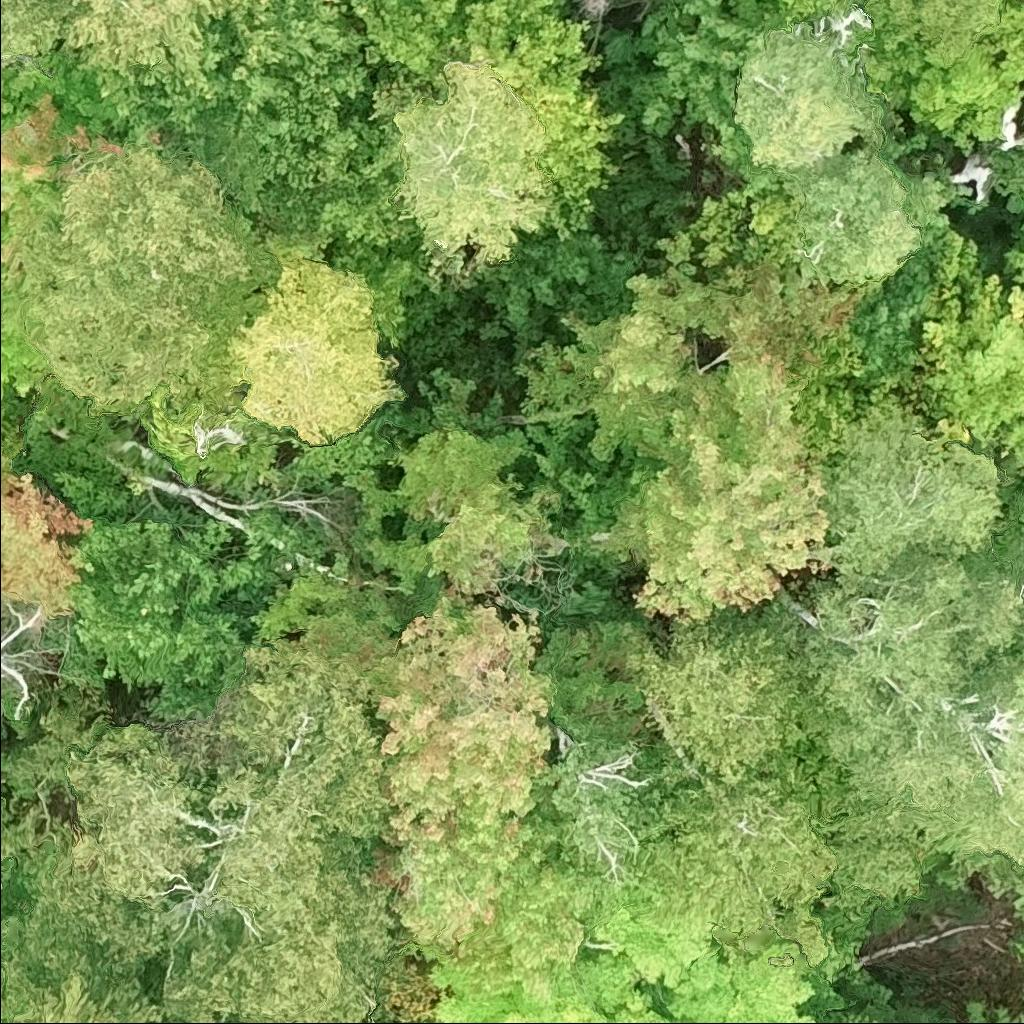crown: (0, 632, 395, 1023), (17, 138, 276, 421), (305, 581, 554, 848), (602, 345, 831, 622), (797, 542, 1023, 761), (433, 901, 827, 1023), (0, 65, 127, 418), (0, 0, 283, 156), (369, 802, 595, 991), (635, 767, 841, 974), (846, 646, 1023, 866), (515, 272, 702, 473), (627, 601, 827, 785), (392, 61, 556, 285), (231, 229, 402, 443), (816, 411, 1007, 597), (464, 40, 629, 244), (390, 426, 569, 599), (790, 742, 957, 918), (72, 517, 236, 682), (672, 260, 882, 380), (729, 25, 886, 174), (919, 272, 1023, 470), (623, 0, 756, 136), (796, 141, 922, 284), (910, 0, 1023, 156), (306, 79, 438, 190), (0, 469, 97, 619), (461, 0, 608, 89), (270, 0, 370, 120), (242, 68, 339, 191), (0, 958, 179, 1023), (351, 0, 463, 75), (863, 0, 1006, 55), (313, 177, 419, 249), (985, 468, 1023, 609), (877, 1005, 950, 1023), (724, 0, 767, 24), (0, 741, 13, 770), (1011, 892, 1023, 920), (768, 0, 796, 11), (1011, 939, 1023, 962), (1018, 219, 1023, 247)
